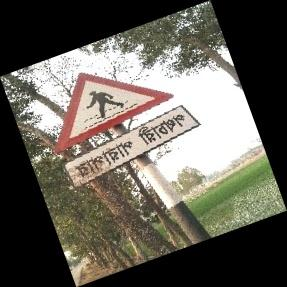Pedestrian-crossing: (53, 72, 199, 189)
